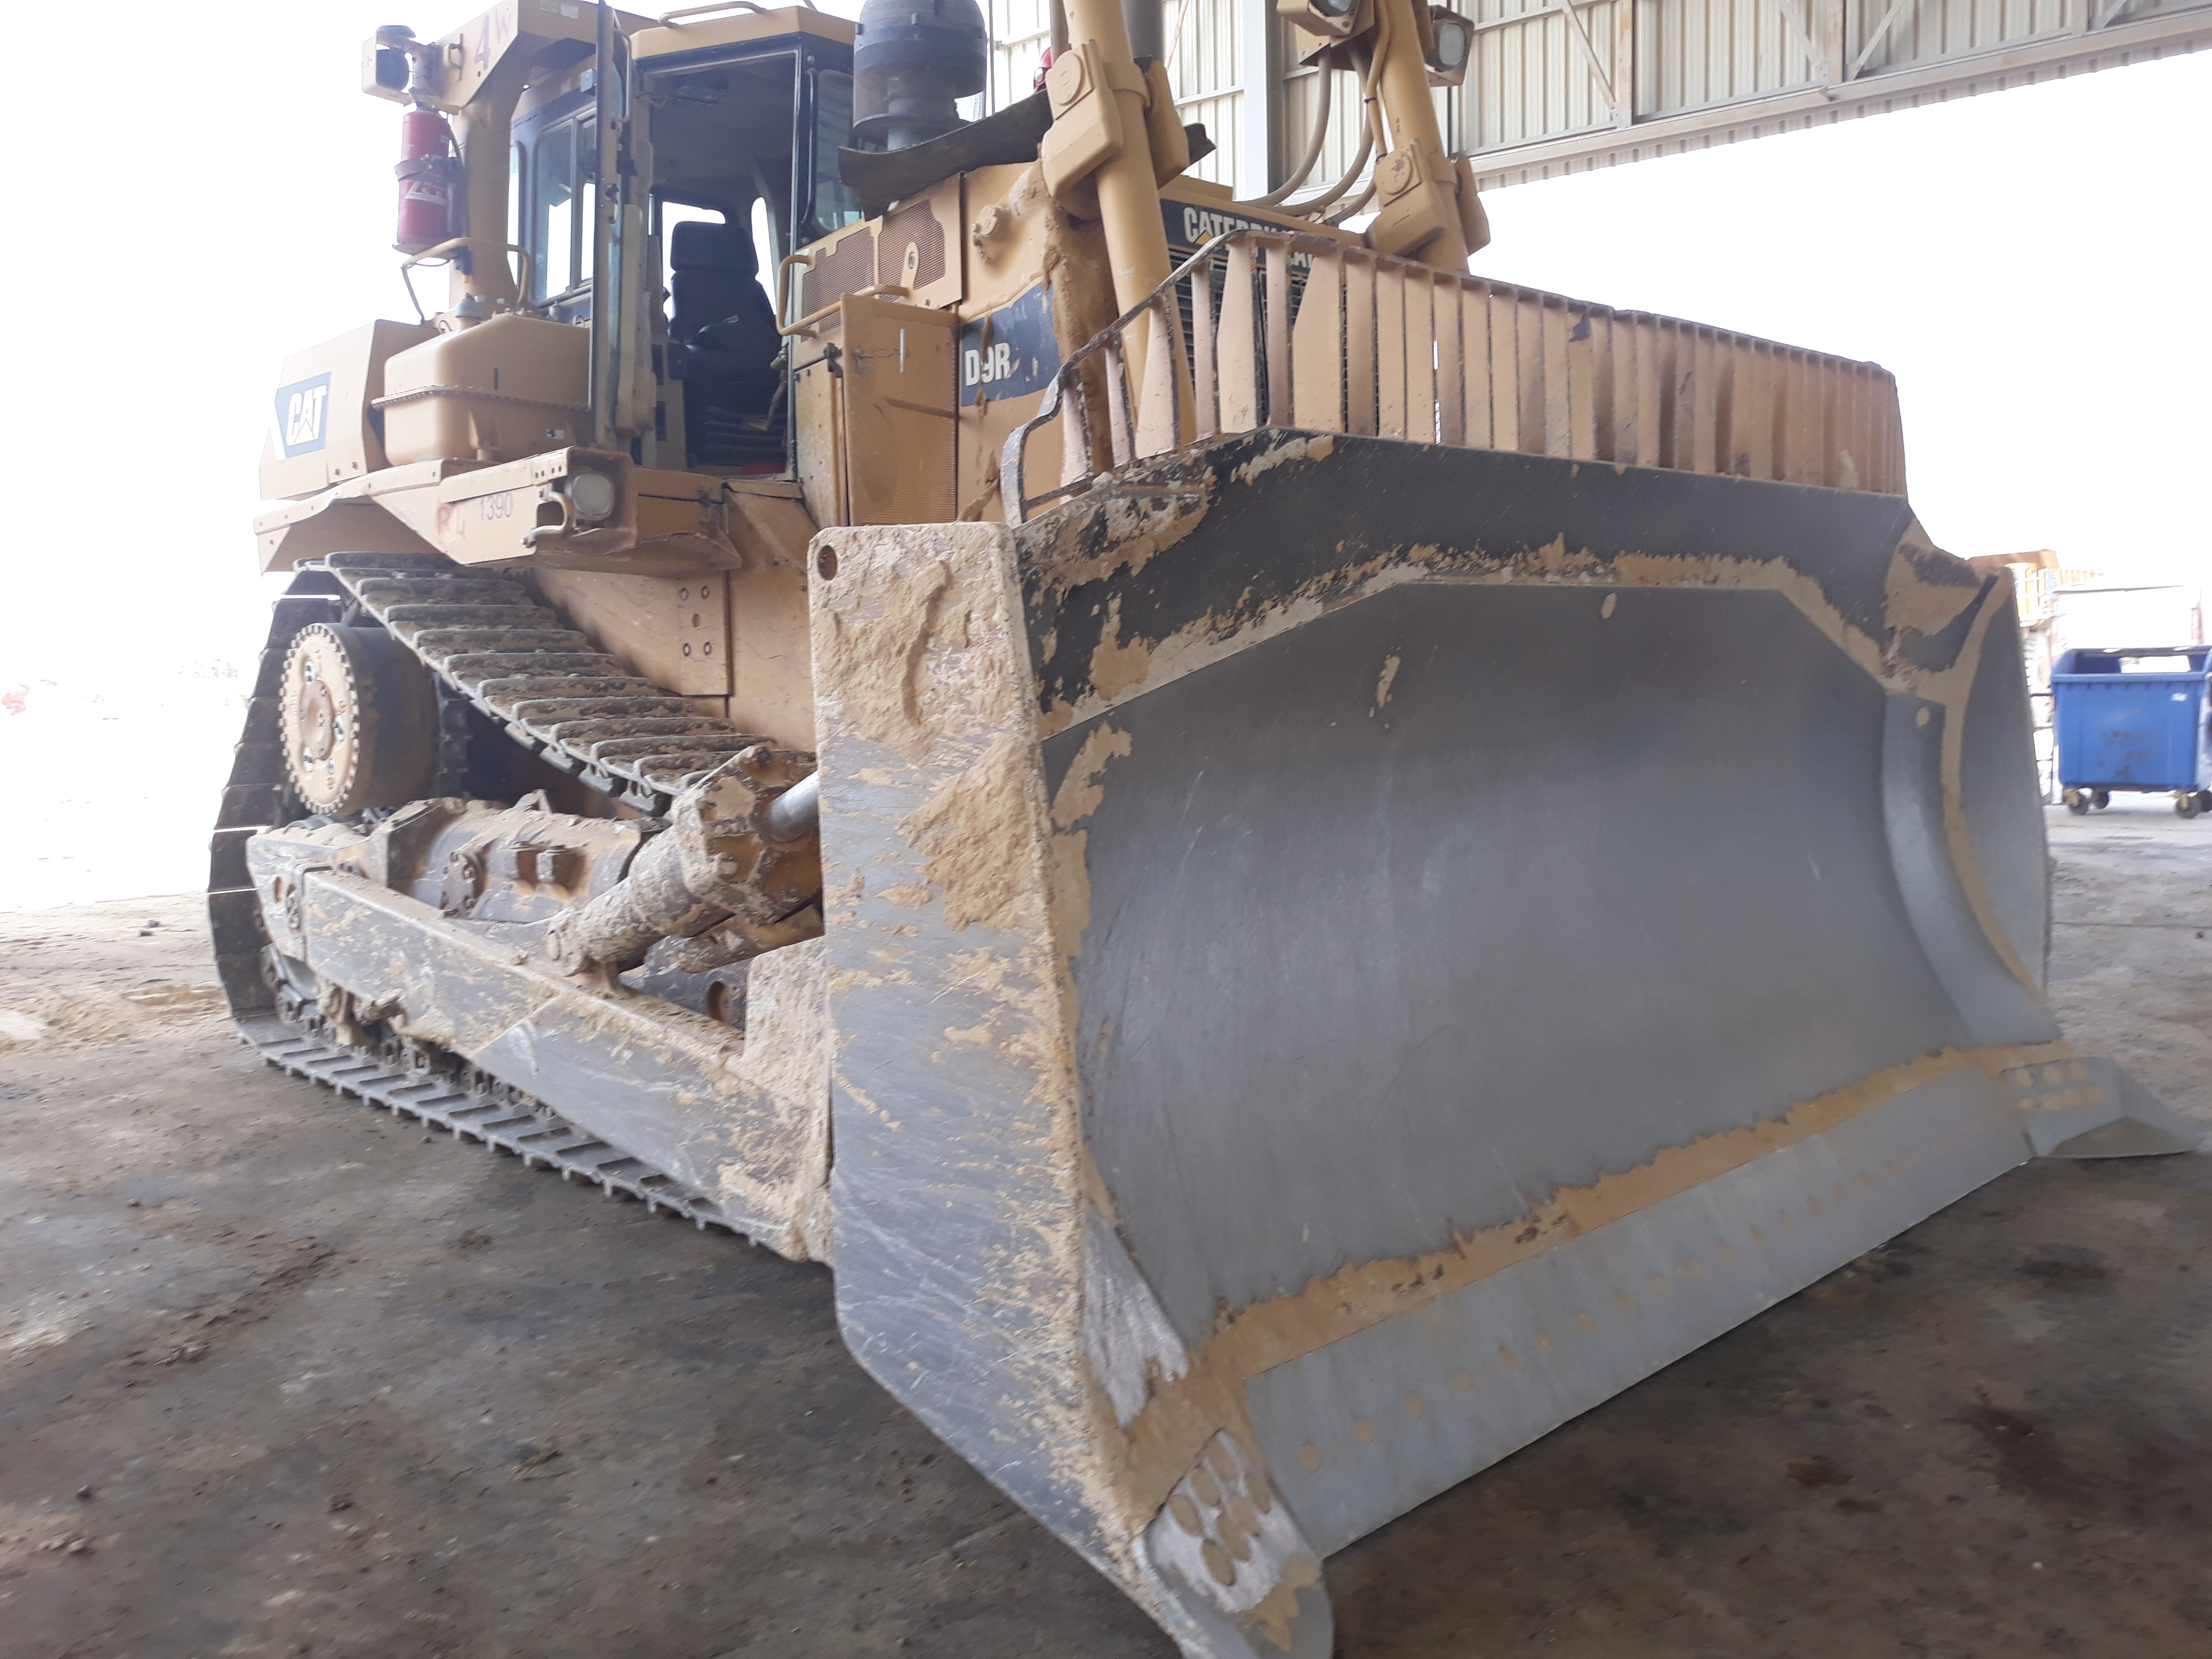bulldozer: (209, 0, 2188, 1657)
